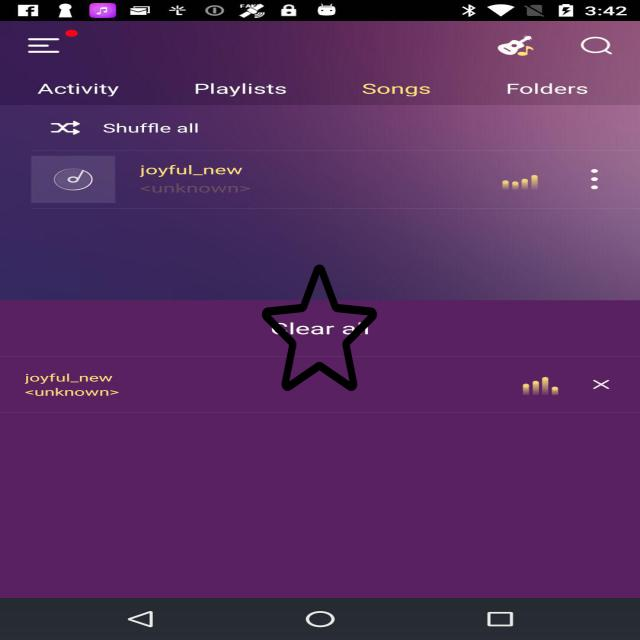forced continuity: (262, 262, 377, 394)
